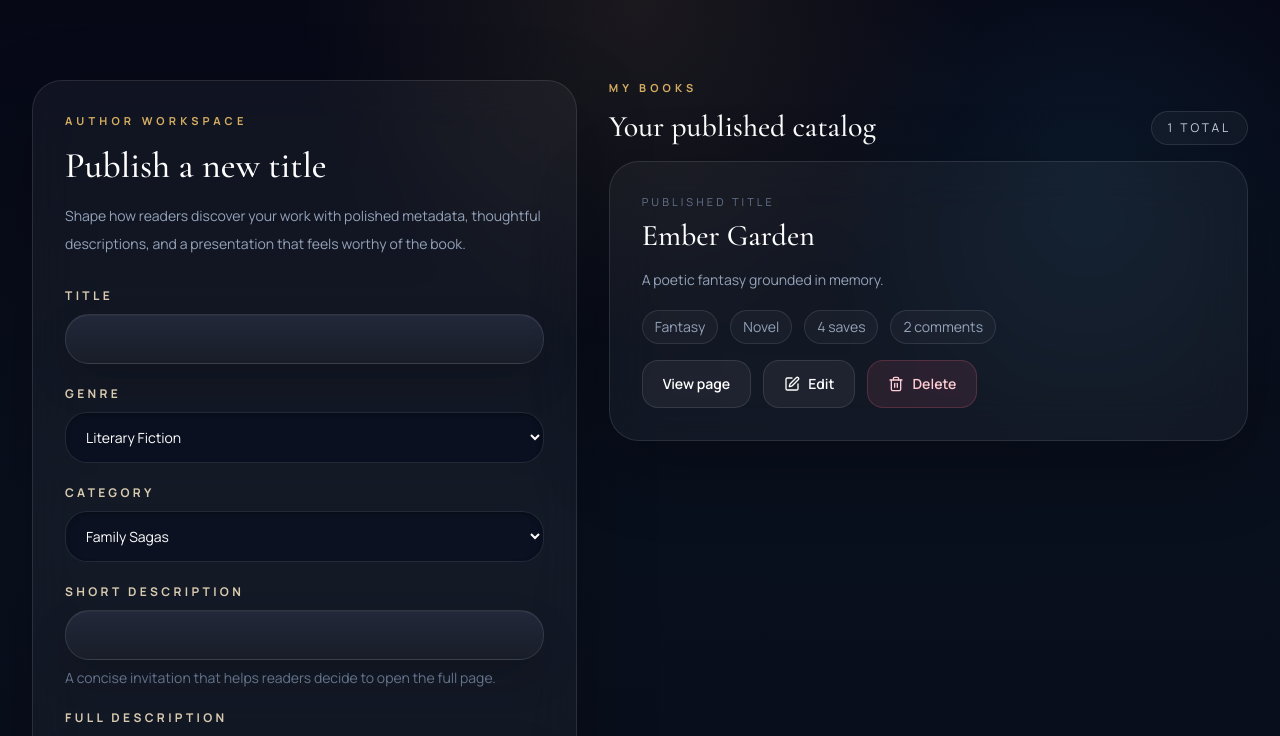
Test case: UI action coverage › my books page keeps edit, cancel, view, and delete actions working
The width and height of the screenshot is (1280, 736).
Expected: the heading "Your published catalog" is shown, [609,108,876,144]
Step 1. Click the button "Edit" → coordinates (809, 384), box [763,360,855,408]
(page scrolled)
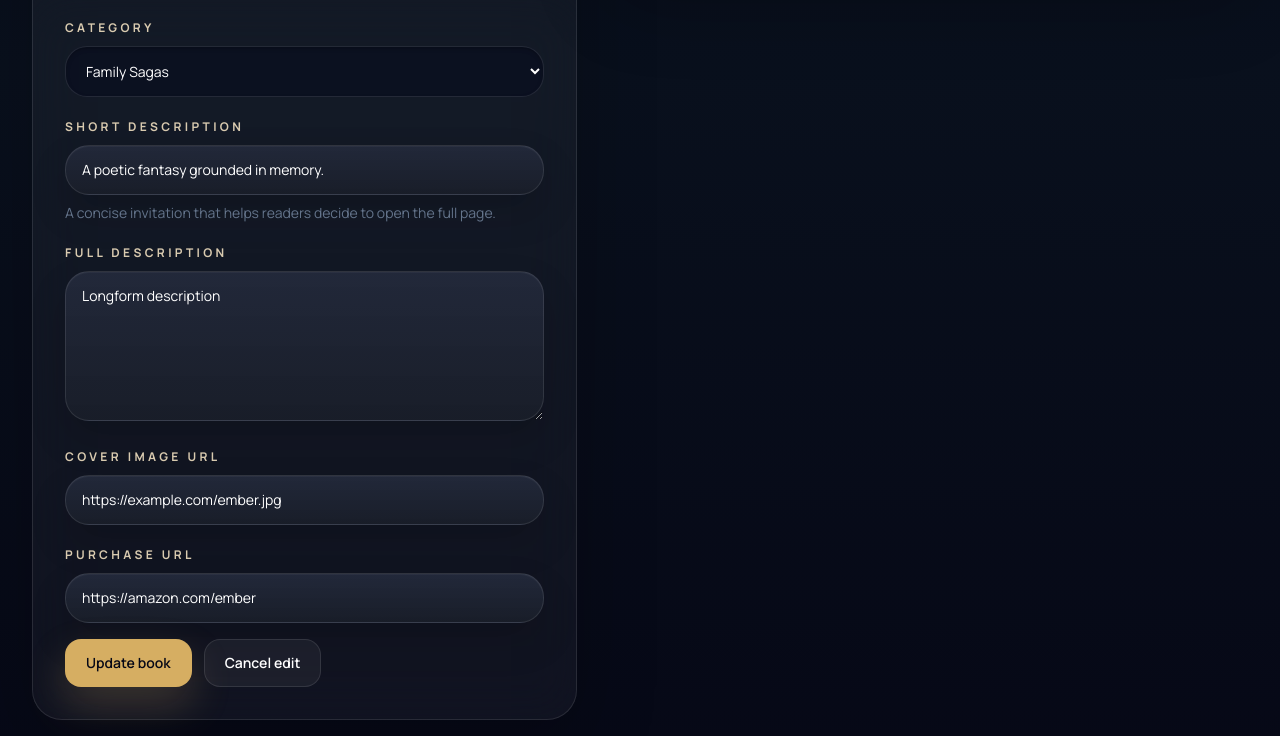
Expected: the button "Cancel edit" is shown
Step 2. Click the button "Cancel edit" → coordinates (262, 662), box [204,638,321,686]
(page scrolled)
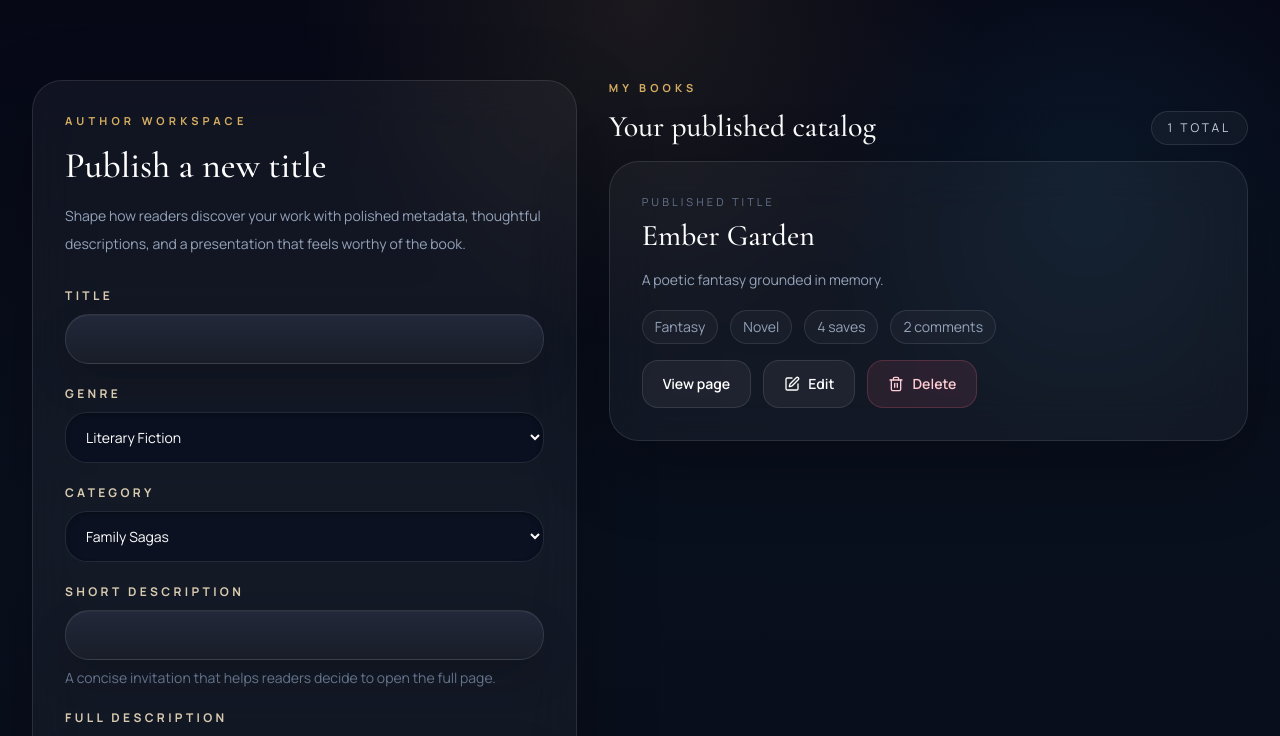
Expected: the button "Cancel edit" is gone
Step 3. Click the button "Delete" → coordinates (922, 384), box [867,360,977,408]
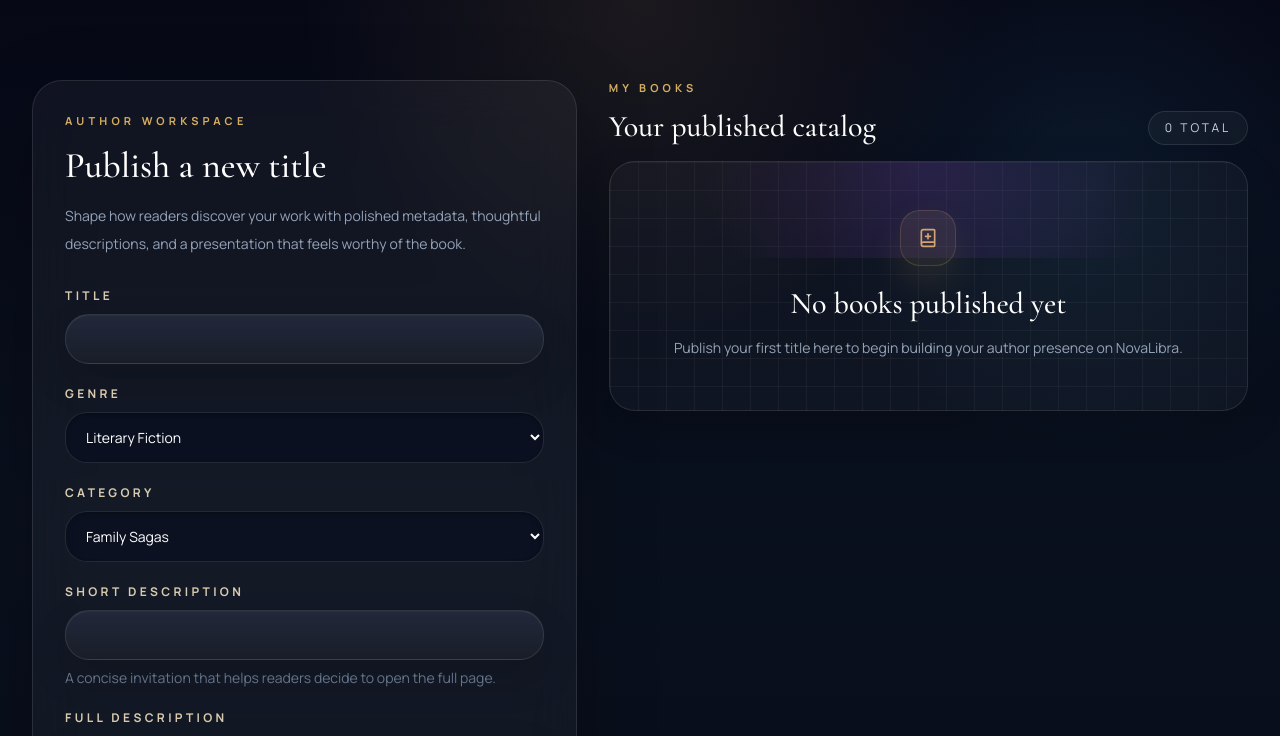
Expected: the heading "No books published yet" is shown, [790,284,1066,322]
